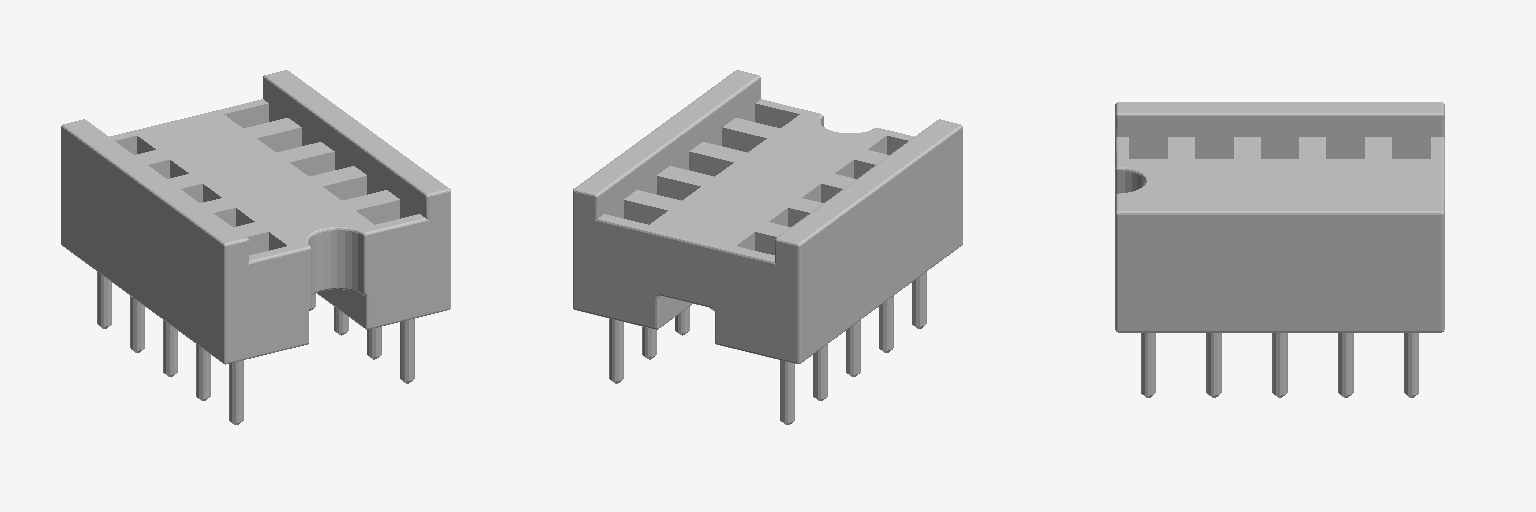
File: IC_Sockel_10P.obj
3 renders of one model, left to right at view 1: azimuth 30°, elevation 25°; view 2: azimuth 150°, elevation 25°; view 3: azimuth 270°, elevation 25°, orthographic.
Visible parts, largest first — view 1: Volumenkörper1; view 2: Volumenkörper1; view 3: Volumenkörper1.
Boxes of the visible parts, x1=… form: Volumenkörper1: x1=61, y1=70, x2=450, y2=424; Volumenkörper1: x1=573, y1=70, x2=962, y2=424; Volumenkörper1: x1=1115, y1=102, x2=1444, y2=397.
Bounding box in the file's own units: 10.16 × 8.46 × 12.7.